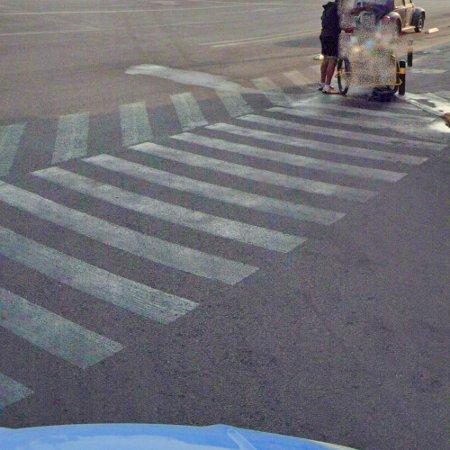crosswalks: (0, 96, 449, 410)
